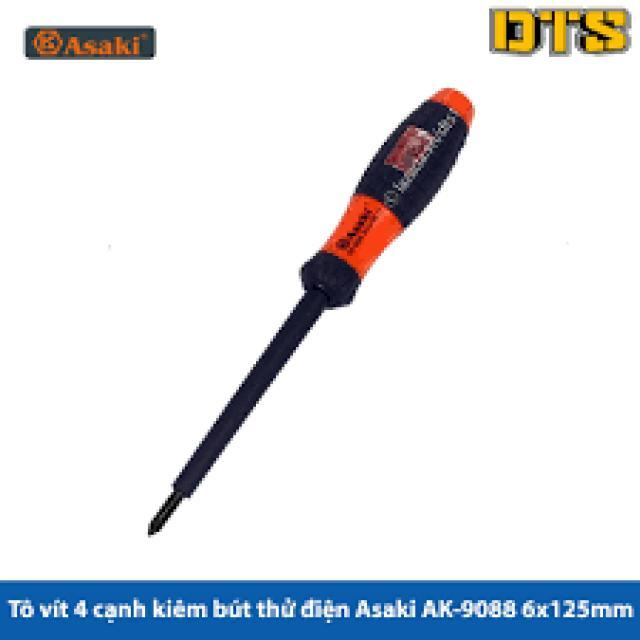screwdriver: (142, 84, 475, 539)
